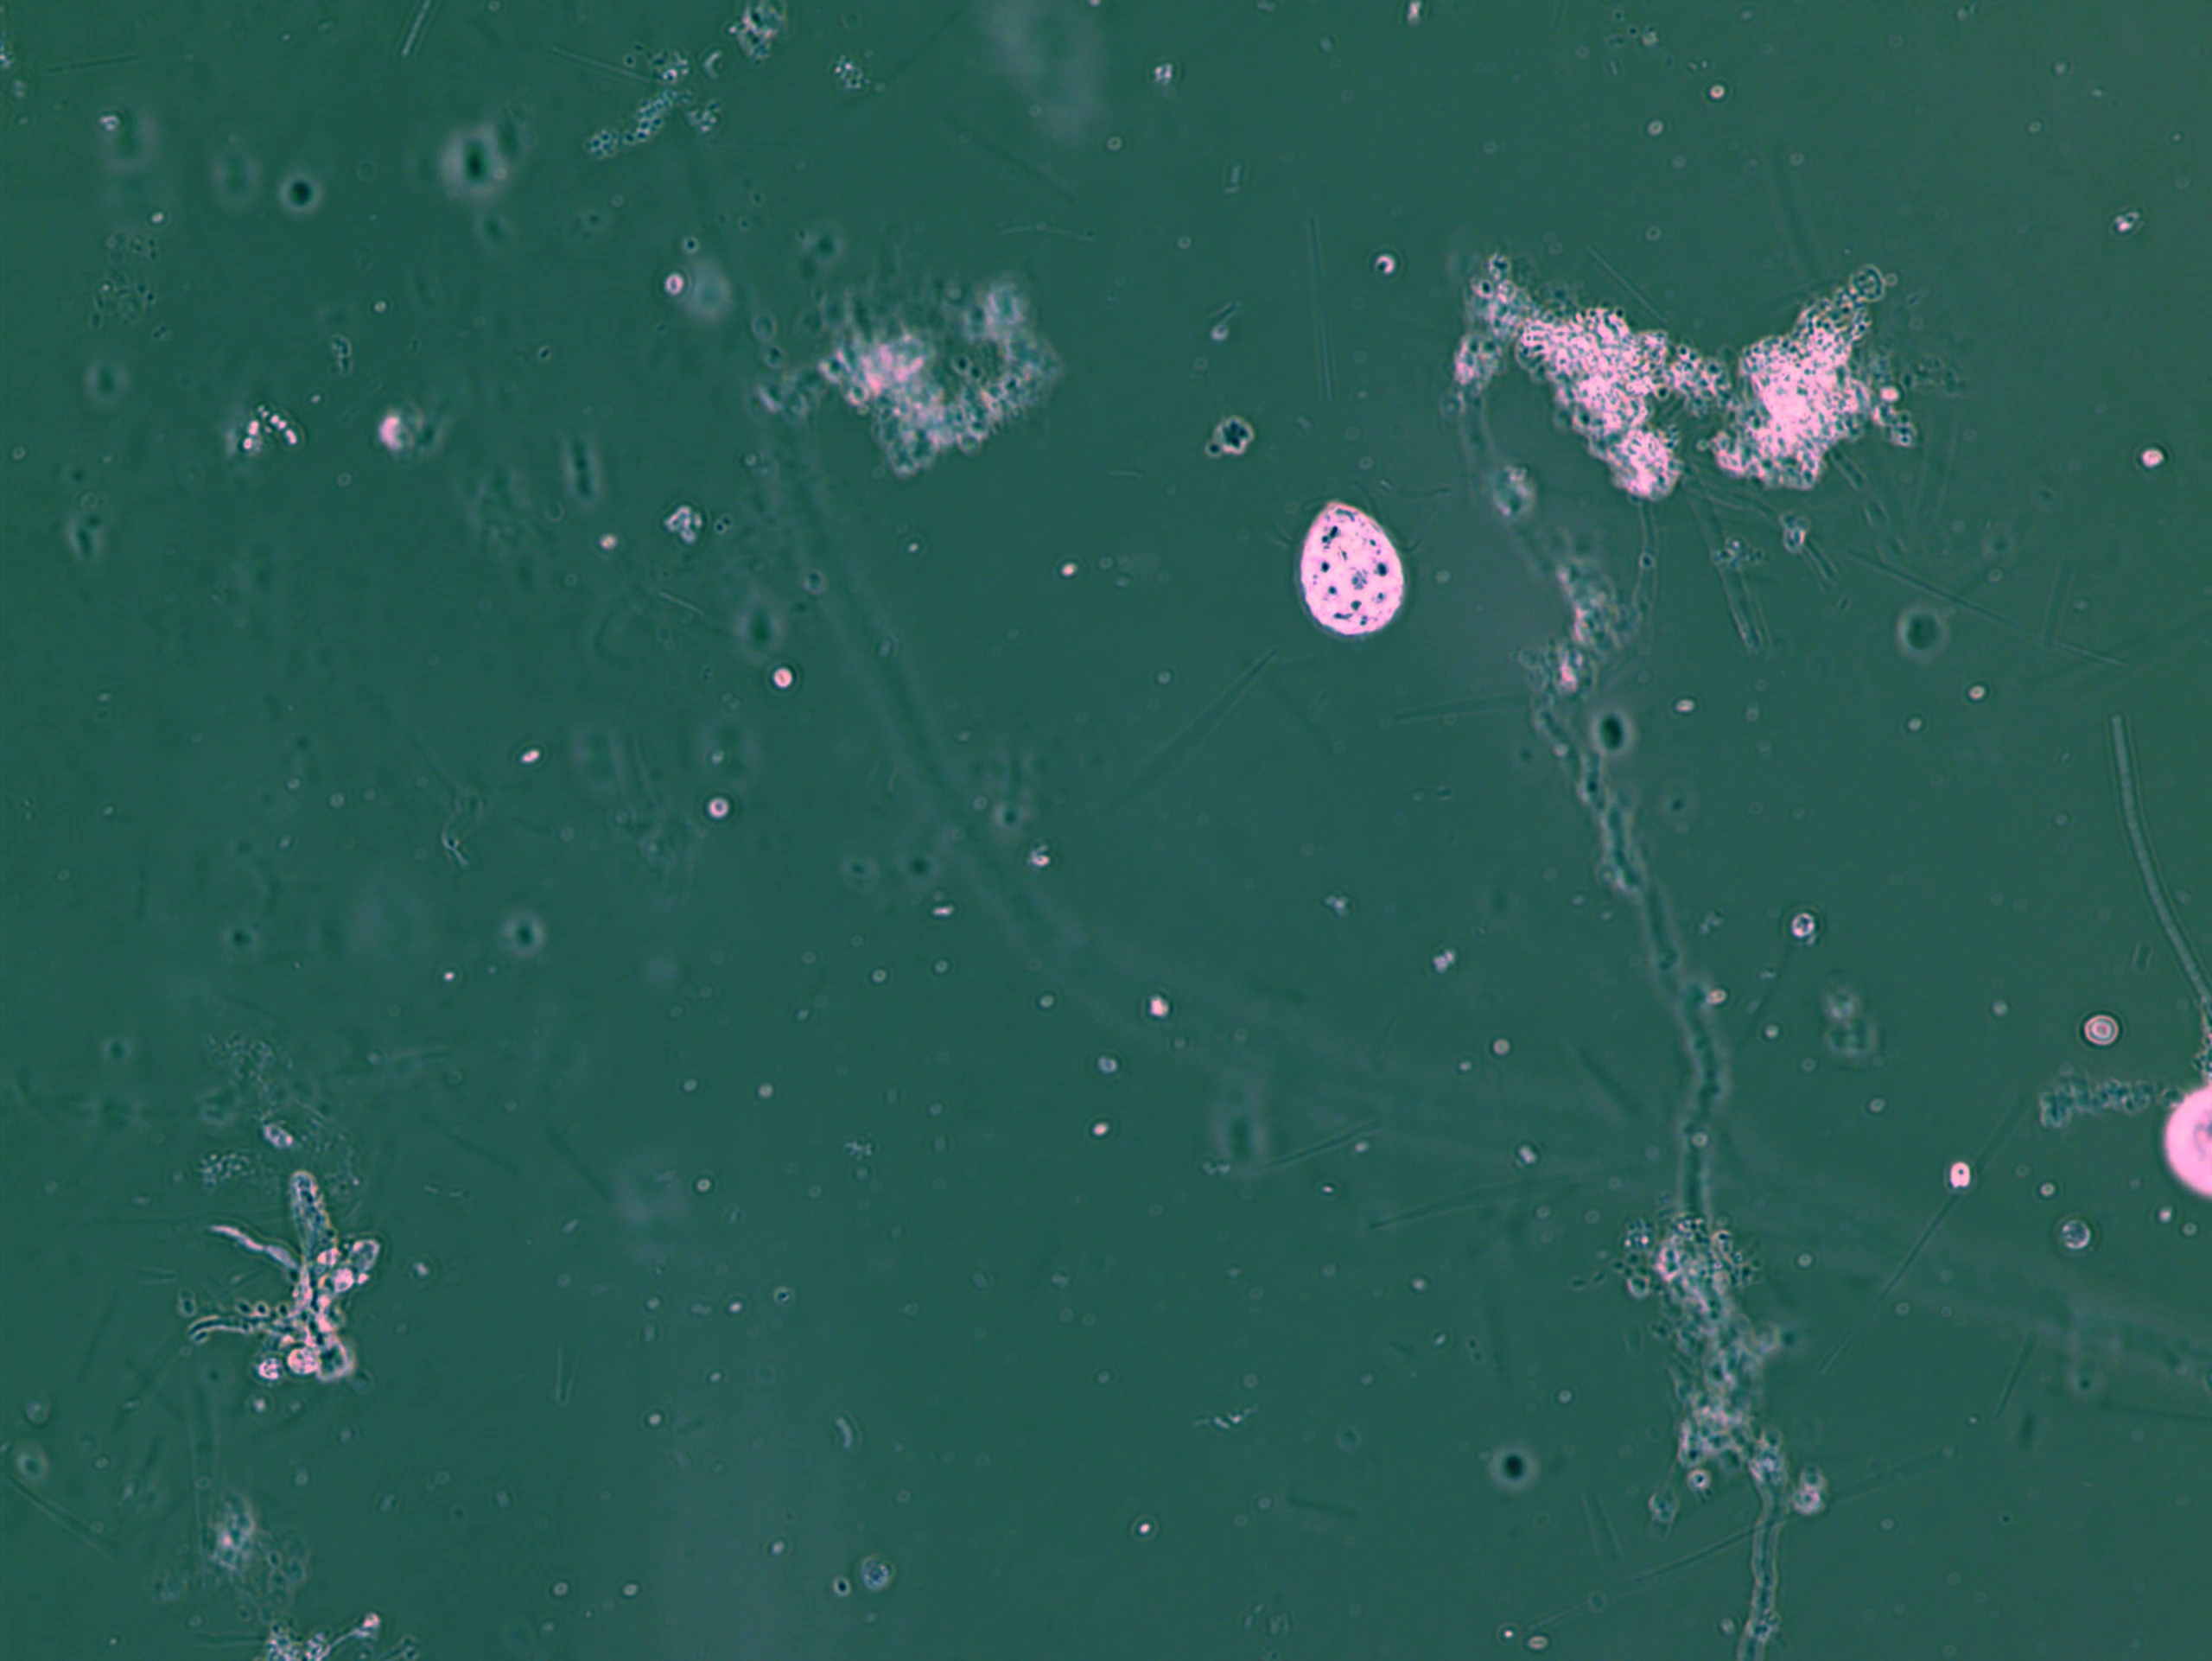depth:0: (1270, 482, 1423, 668)
